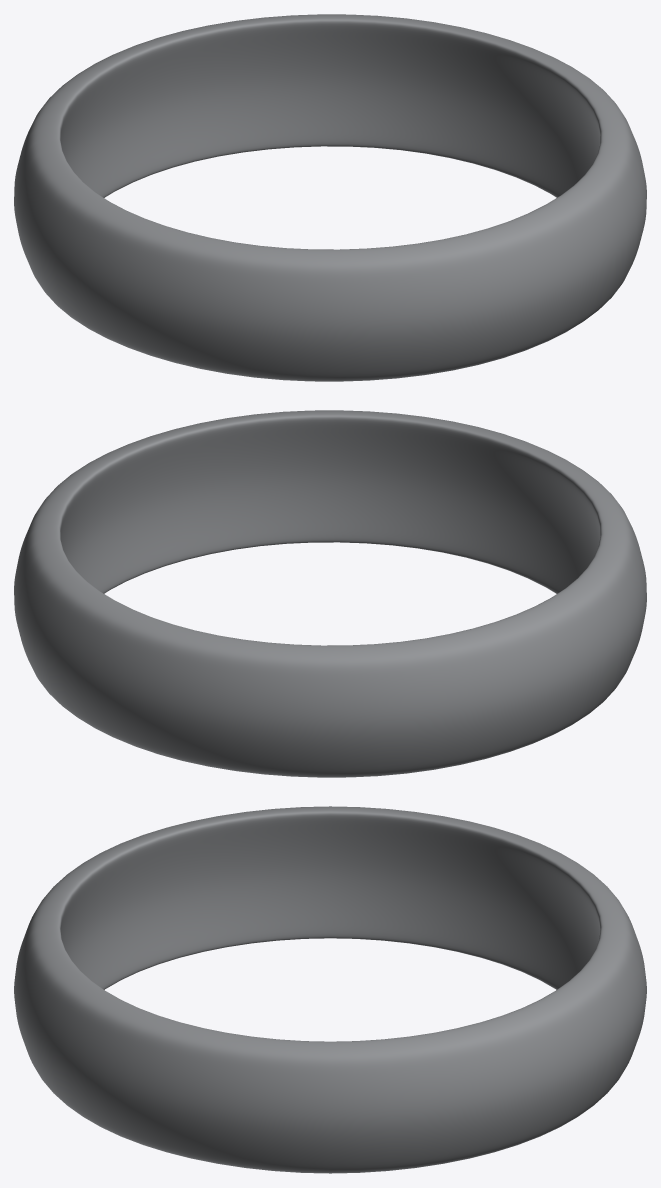
The model's file is sic_parvis_magna_ring.glb.
The picture shows the model from 3 angles, top to bottom: view 1: azimuth 30°, elevation 25°; view 2: azimuth 150°, elevation 25°; view 3: azimuth 270°, elevation 25°; orthographic projection.
Visible parts, largest first — view 1: Object_2; view 2: Object_2; view 3: Object_2.
Part boxes in pixels (<box>): Object_2: <box>14,14,646,381</box>; Object_2: <box>14,410,646,777</box>; Object_2: <box>14,806,646,1173</box>.
Size of the model in its own units: 119 by 26.32 by 119.
1 material, 1 textured.
